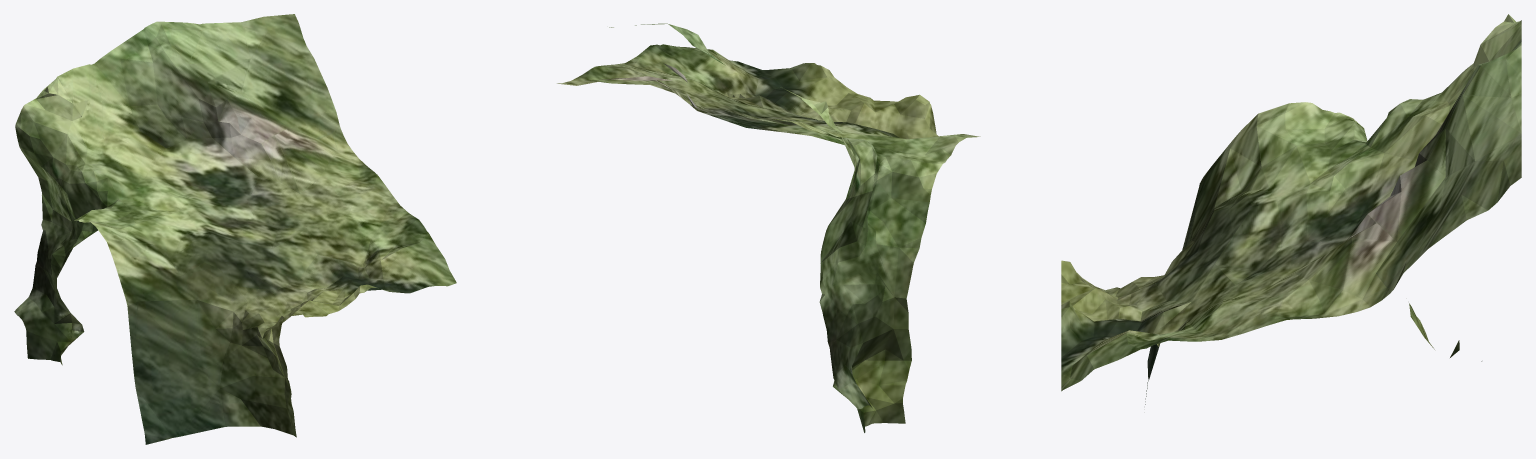
3 renders of one model, left to right at view 1: azimuth 30°, elevation 25°; view 2: azimuth 150°, elevation 25°; view 3: azimuth 270°, elevation 25°, orthographic. The views are drawn at different scales.
Size of the model in its own units: 5.9 by 5.87 by 5.9.
4 materials, 4 textured.
